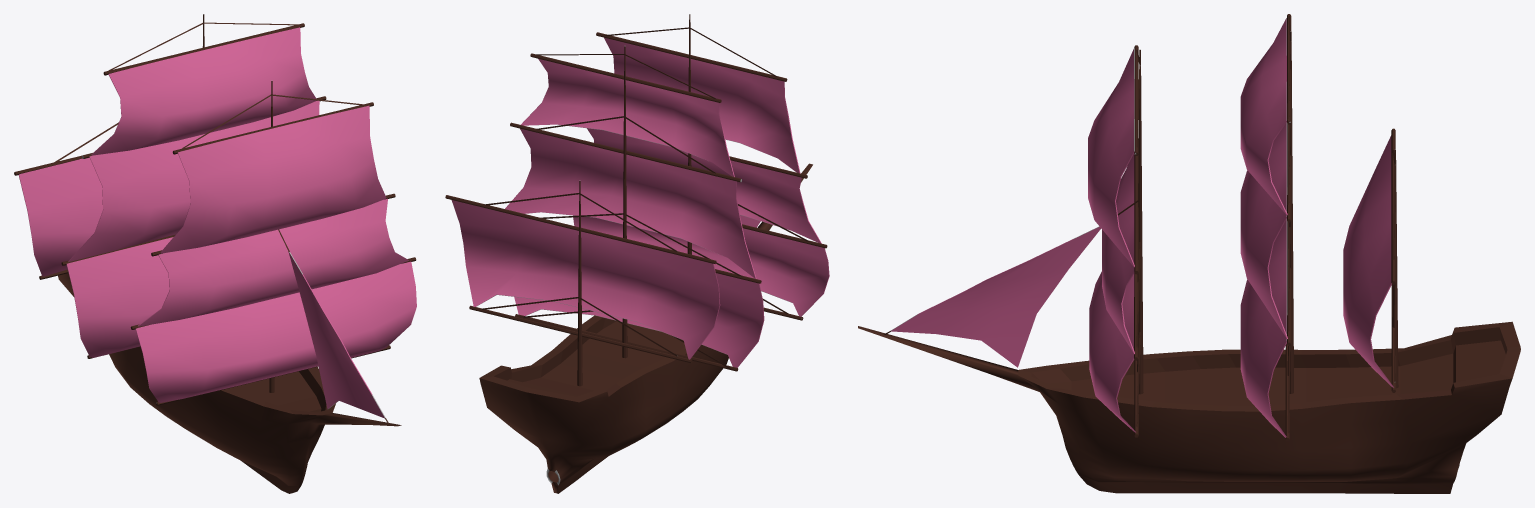
Rendered from Ship-Main.fbx.
3 renders of one model, left to right at view 1: azimuth 30°, elevation 25°; view 2: azimuth 150°, elevation 25°; view 3: azimuth 270°, elevation 25°, orthographic. The views are drawn at different scales.
Visible parts, largest first — view 1: Ship8; view 2: Ship8; view 3: Ship8.
Boxes of the visible parts, x1,y1,x2,y2 form: Ship8: (14,14,416,493); Ship8: (445,14,829,493); Ship8: (858,14,1520,493).
Bounding box in the file's own units: 0.2544 × 0.3584 × 0.4669.
